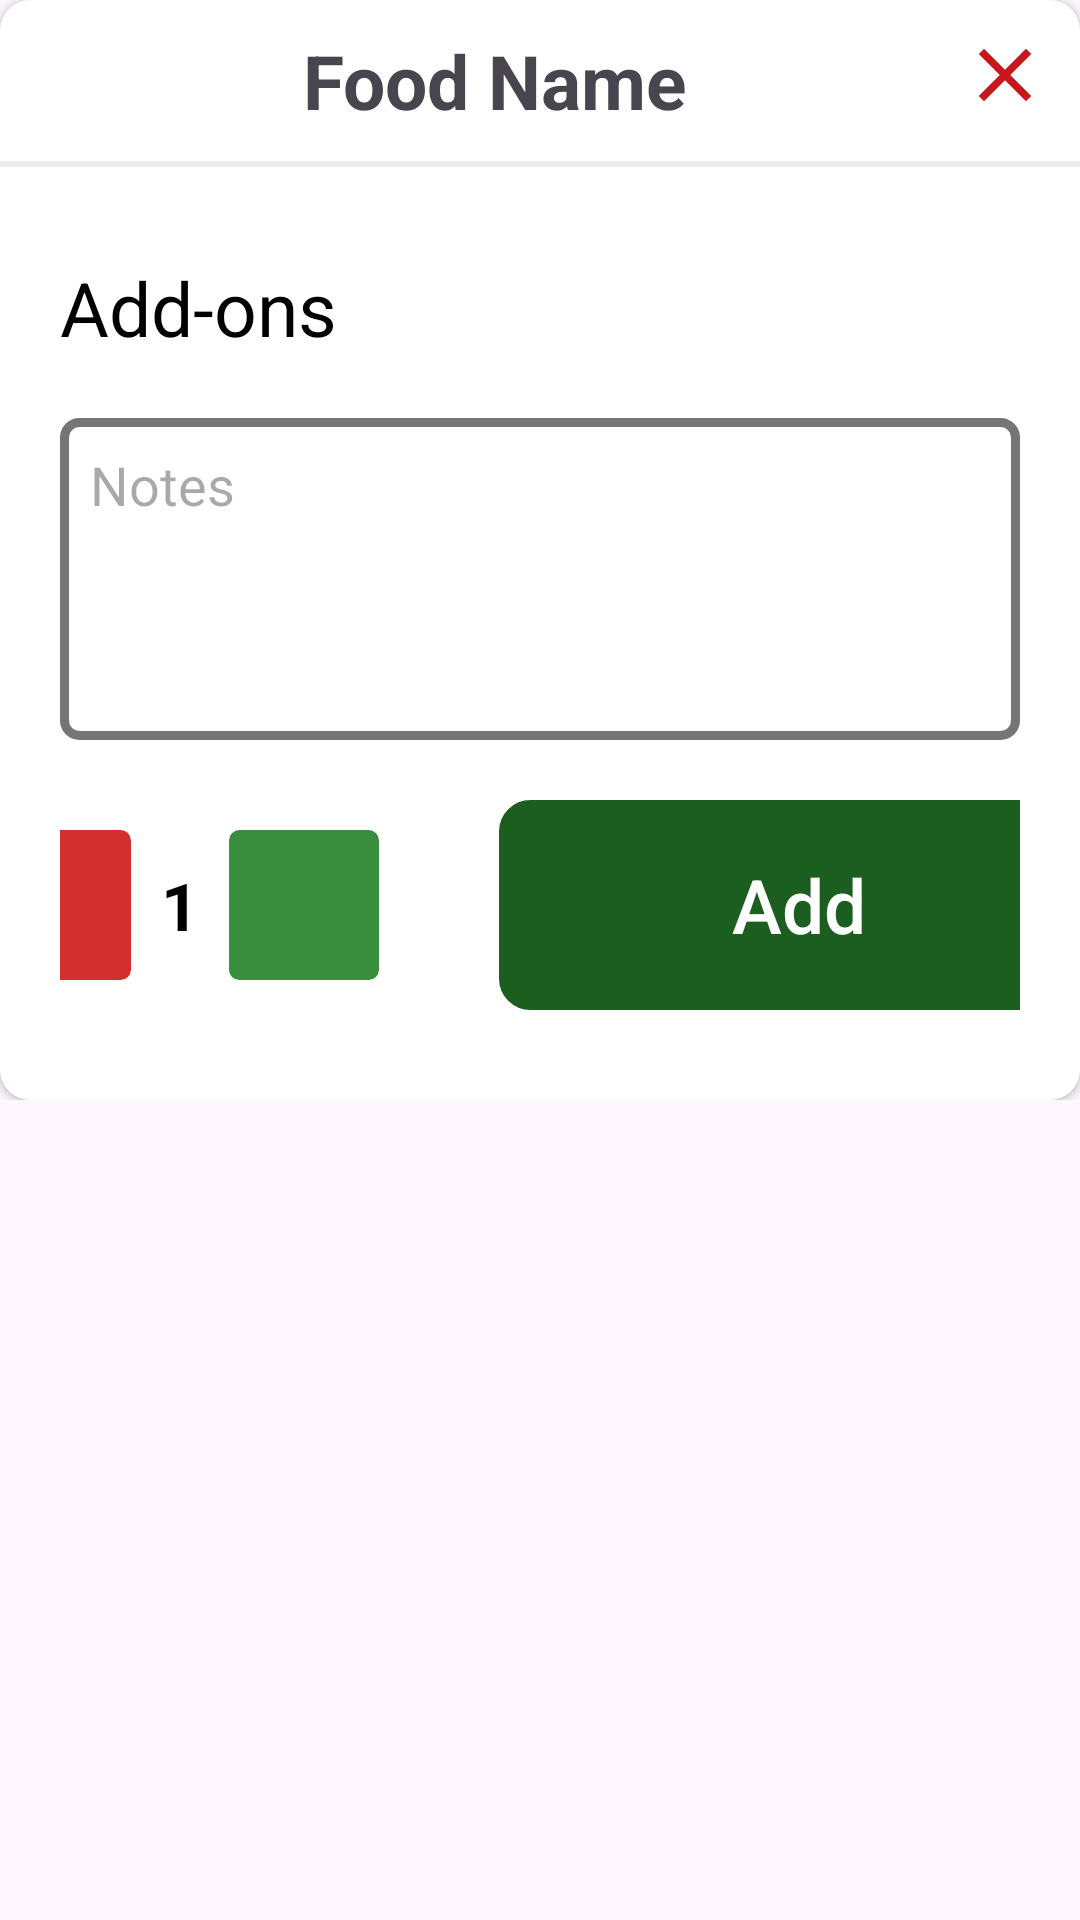

Screen size 1080*1920. Icon name, then its box in pixels as (x1, y1, x2, y2):
close: (979, 49, 1031, 101)
